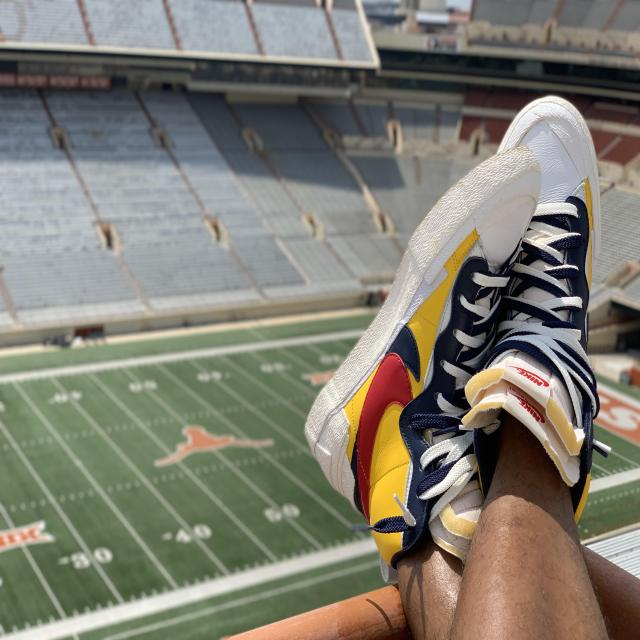shoes: (304, 142, 539, 567), (466, 96, 600, 509)
